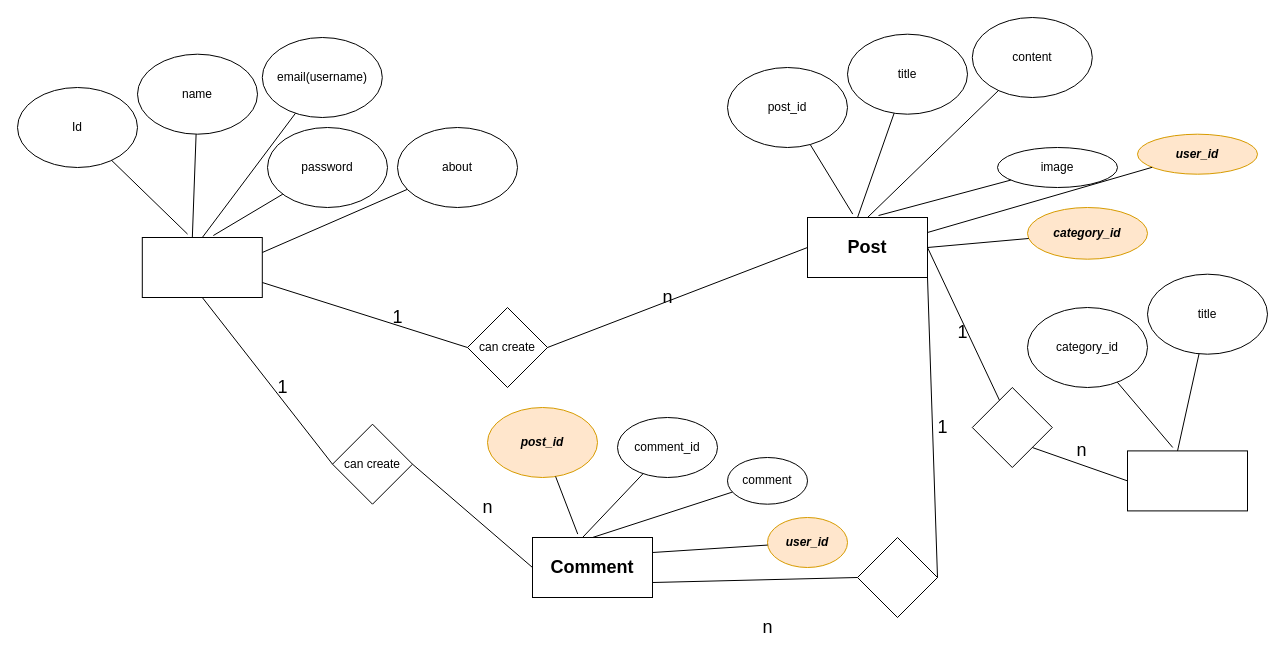
This 1285x665 diagram has some shape labels left out. The shapes that lost their labels are listed below. From the top down, each one's box as (x1, y1, x2, y2) in pixels, then its label:
(141, 236, 262, 298): User
(971, 386, 1052, 468): has n
(1126, 450, 1248, 511): Category
(856, 536, 938, 618): have
